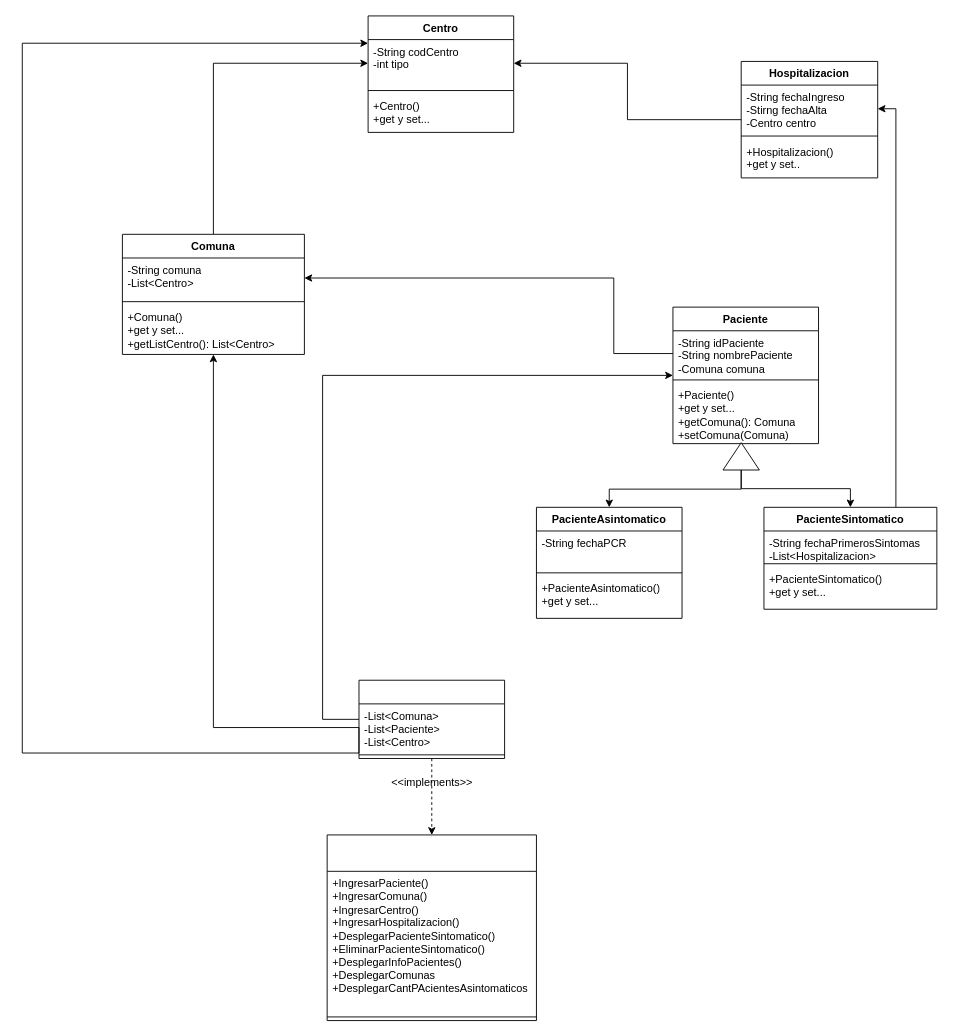
Some shapes in this 953 by 1036 pixel diagram are drawn without their labels. Each missing label, with the box of its shape:
SistemaCovid <<interface>>: (326, 834, 536, 1021)
SistemaCovidImpl: (358, 679, 505, 758)
